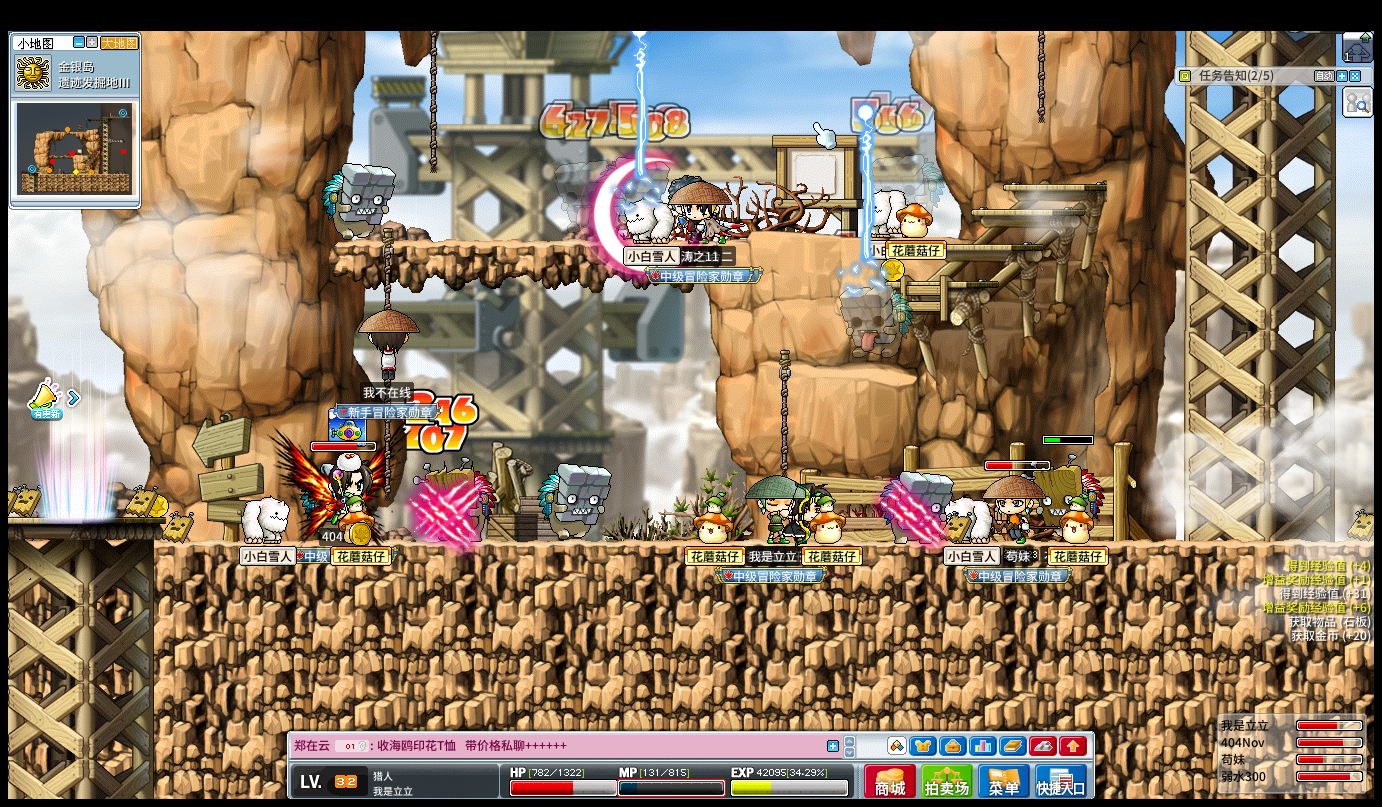floor: (338, 239, 728, 248), (806, 364, 919, 385), (7, 515, 164, 524), (891, 280, 995, 291), (893, 280, 997, 288), (1003, 184, 1103, 192), (969, 207, 1083, 214), (937, 243, 1041, 250)
monster: (417, 462, 493, 543), (838, 283, 912, 364), (321, 162, 395, 240), (537, 464, 611, 542), (1031, 459, 1105, 537), (885, 471, 951, 540)
rope: (777, 350, 789, 478), (430, 30, 440, 170), (428, 30, 437, 169), (379, 231, 392, 310), (1035, 30, 1045, 121)
